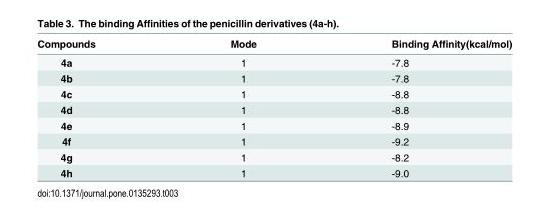table: (36, 37, 511, 178)
table column: (323, 37, 511, 178), (162, 37, 323, 178), (36, 37, 162, 178)
table column header: (36, 37, 511, 52)
table row: (36, 52, 511, 69), (36, 69, 511, 85), (36, 85, 511, 101), (36, 101, 511, 117), (36, 117, 511, 133), (36, 148, 511, 164), (36, 37, 511, 52), (36, 133, 511, 148), (36, 164, 511, 178)
